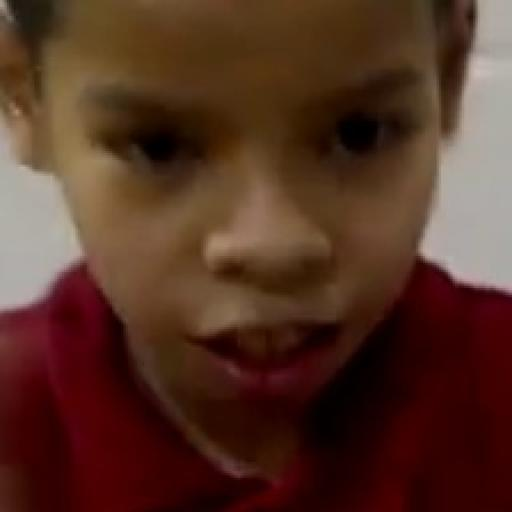Autism: (38, 4, 432, 425)
